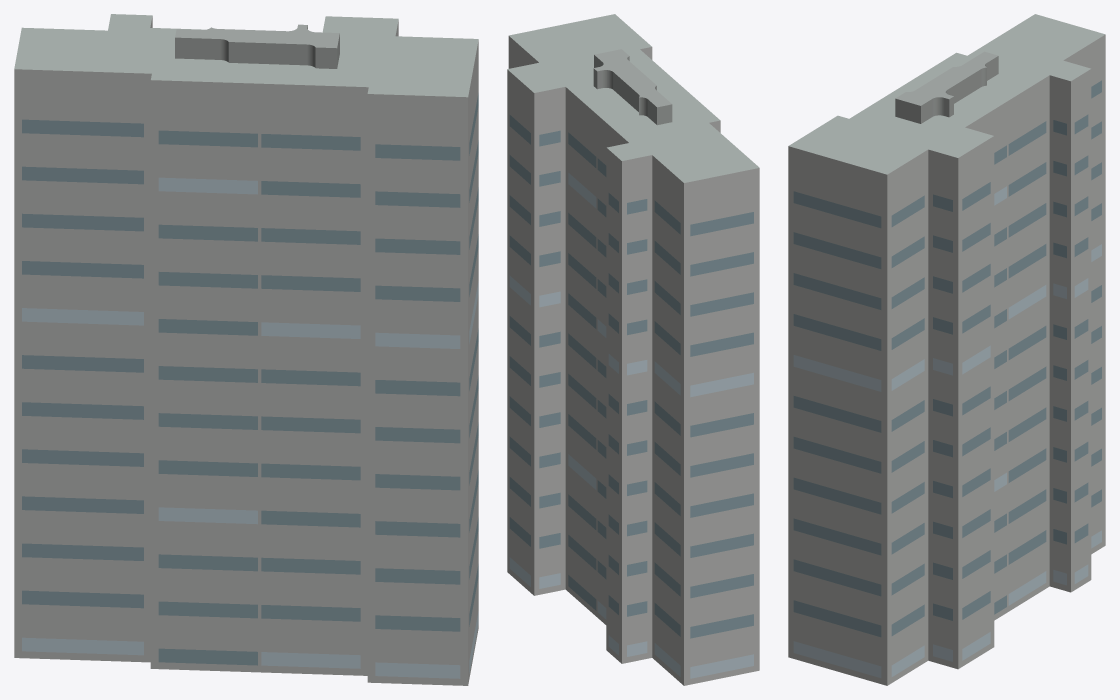
The model's file is fallback-jamsil-trizium-327.glb.
3 views of the same model, side by side, from view 1: azimuth 30°, elevation 25°; view 2: azimuth 150°, elevation 25°; view 3: azimuth 270°, elevation 25° (orthographic). The views are drawn at different scales.
Visible parts, largest first — view 1: fallback-jamsil-trizium-327; view 2: fallback-jamsil-trizium-327; view 3: fallback-jamsil-trizium-327.
Boxes of the visible parts, x1,y1,x2,y2 form: fallback-jamsil-trizium-327: (14,14,478,685); fallback-jamsil-trizium-327: (507,14,759,685); fallback-jamsil-trizium-327: (788,14,1105,685).
Size of the model in its own units: 45.58 by 70 by 38.04.
